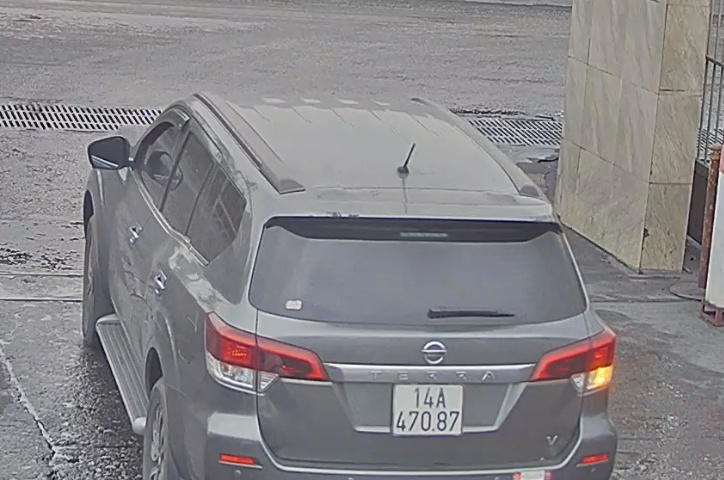vehicle plate: (389, 374, 465, 437)
